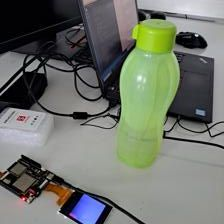bottle: (109, 16, 181, 168)
